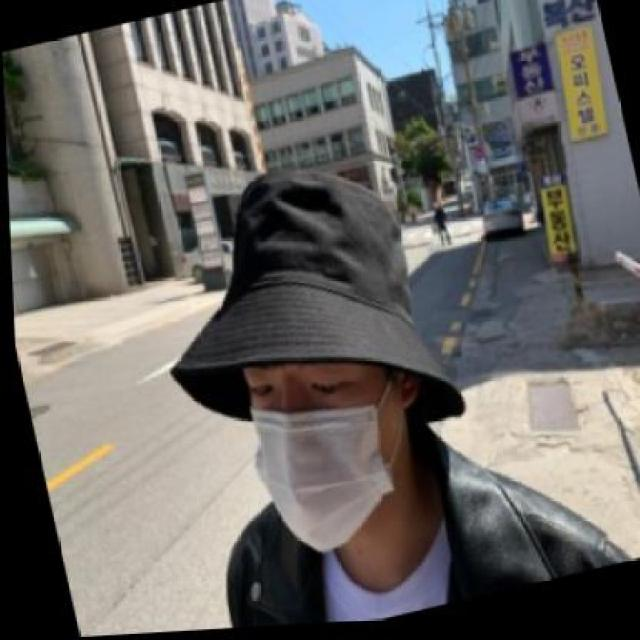hat: (125, 135, 469, 483)
